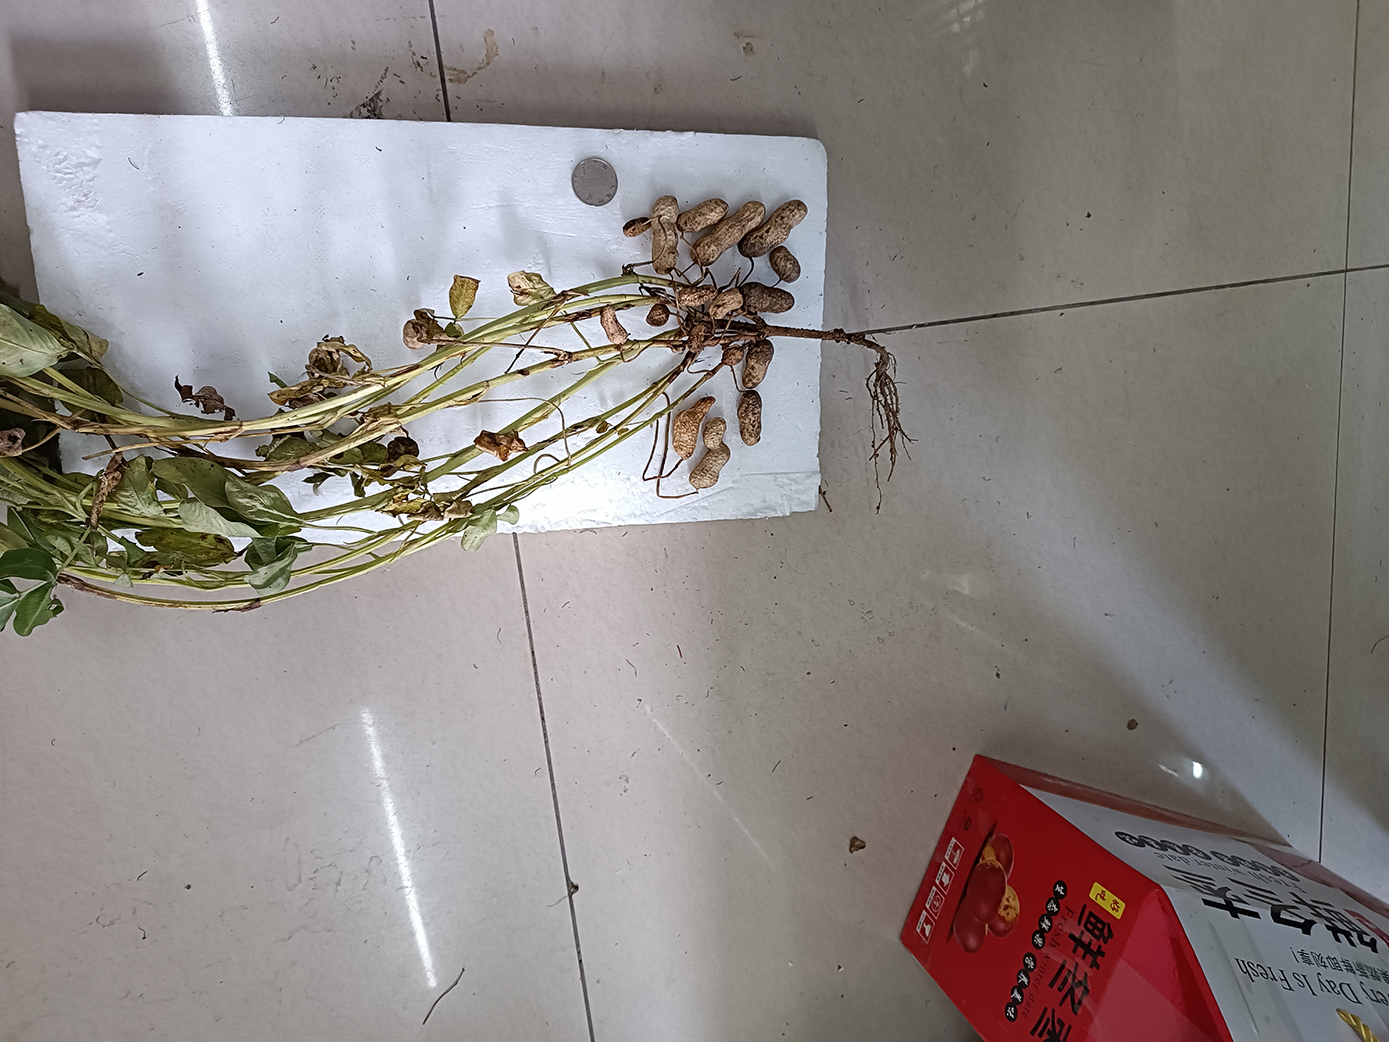h: (690, 200, 765, 265), (741, 199, 808, 256), (688, 417, 729, 488), (671, 396, 715, 459), (651, 195, 679, 274), (675, 197, 727, 232), (737, 391, 765, 445), (598, 304, 628, 348), (711, 288, 741, 319), (679, 286, 717, 306), (624, 216, 650, 238), (721, 345, 743, 367)
l: (739, 282, 794, 314), (771, 246, 805, 285), (646, 303, 671, 326)
